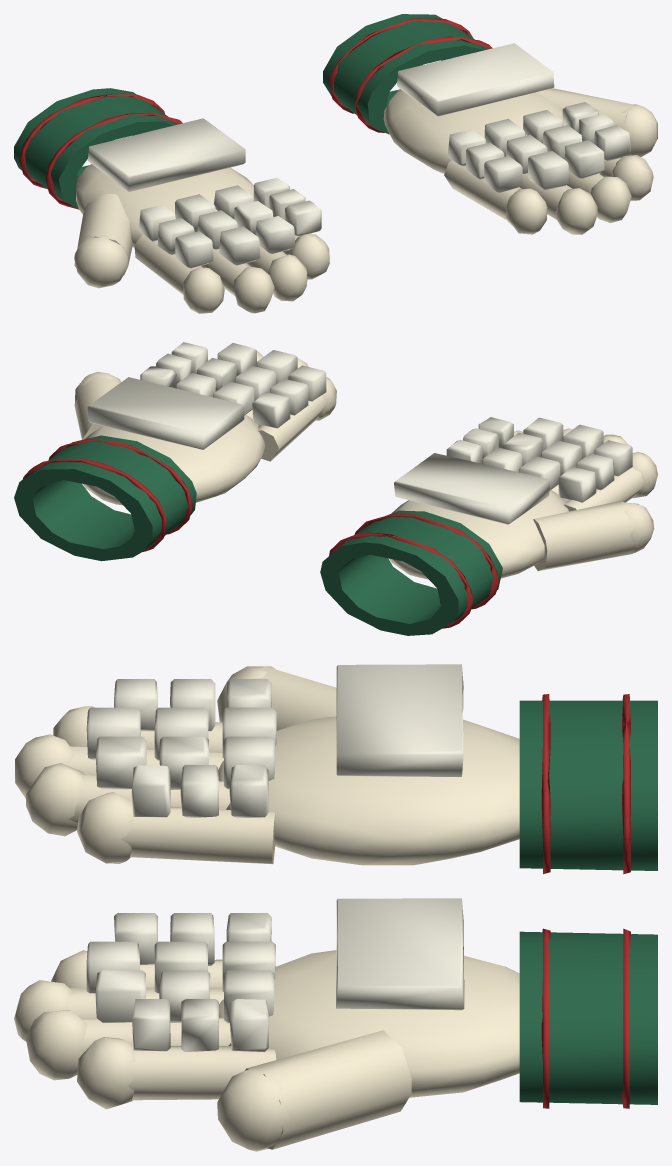
File: gloves.glb
3 views of the same model, one above another, from view 1: azimuth 30°, elevation 25°; view 2: azimuth 150°, elevation 25°; view 3: azimuth 270°, elevation 25° (orthographic). The views are drawn at different scales.
Parts seen in each view (by area): view 1: batting-glove-pair; view 2: batting-glove-pair; view 3: batting-glove-pair.
Part boxes in pixels (x1,y1,x2,y2): batting-glove-pair: [14, 14, 657, 313]; batting-glove-pair: [14, 342, 657, 635]; batting-glove-pair: [14, 664, 657, 1151].
Size of the model in its own units: 0.4112 by 0.0654 by 0.256.
